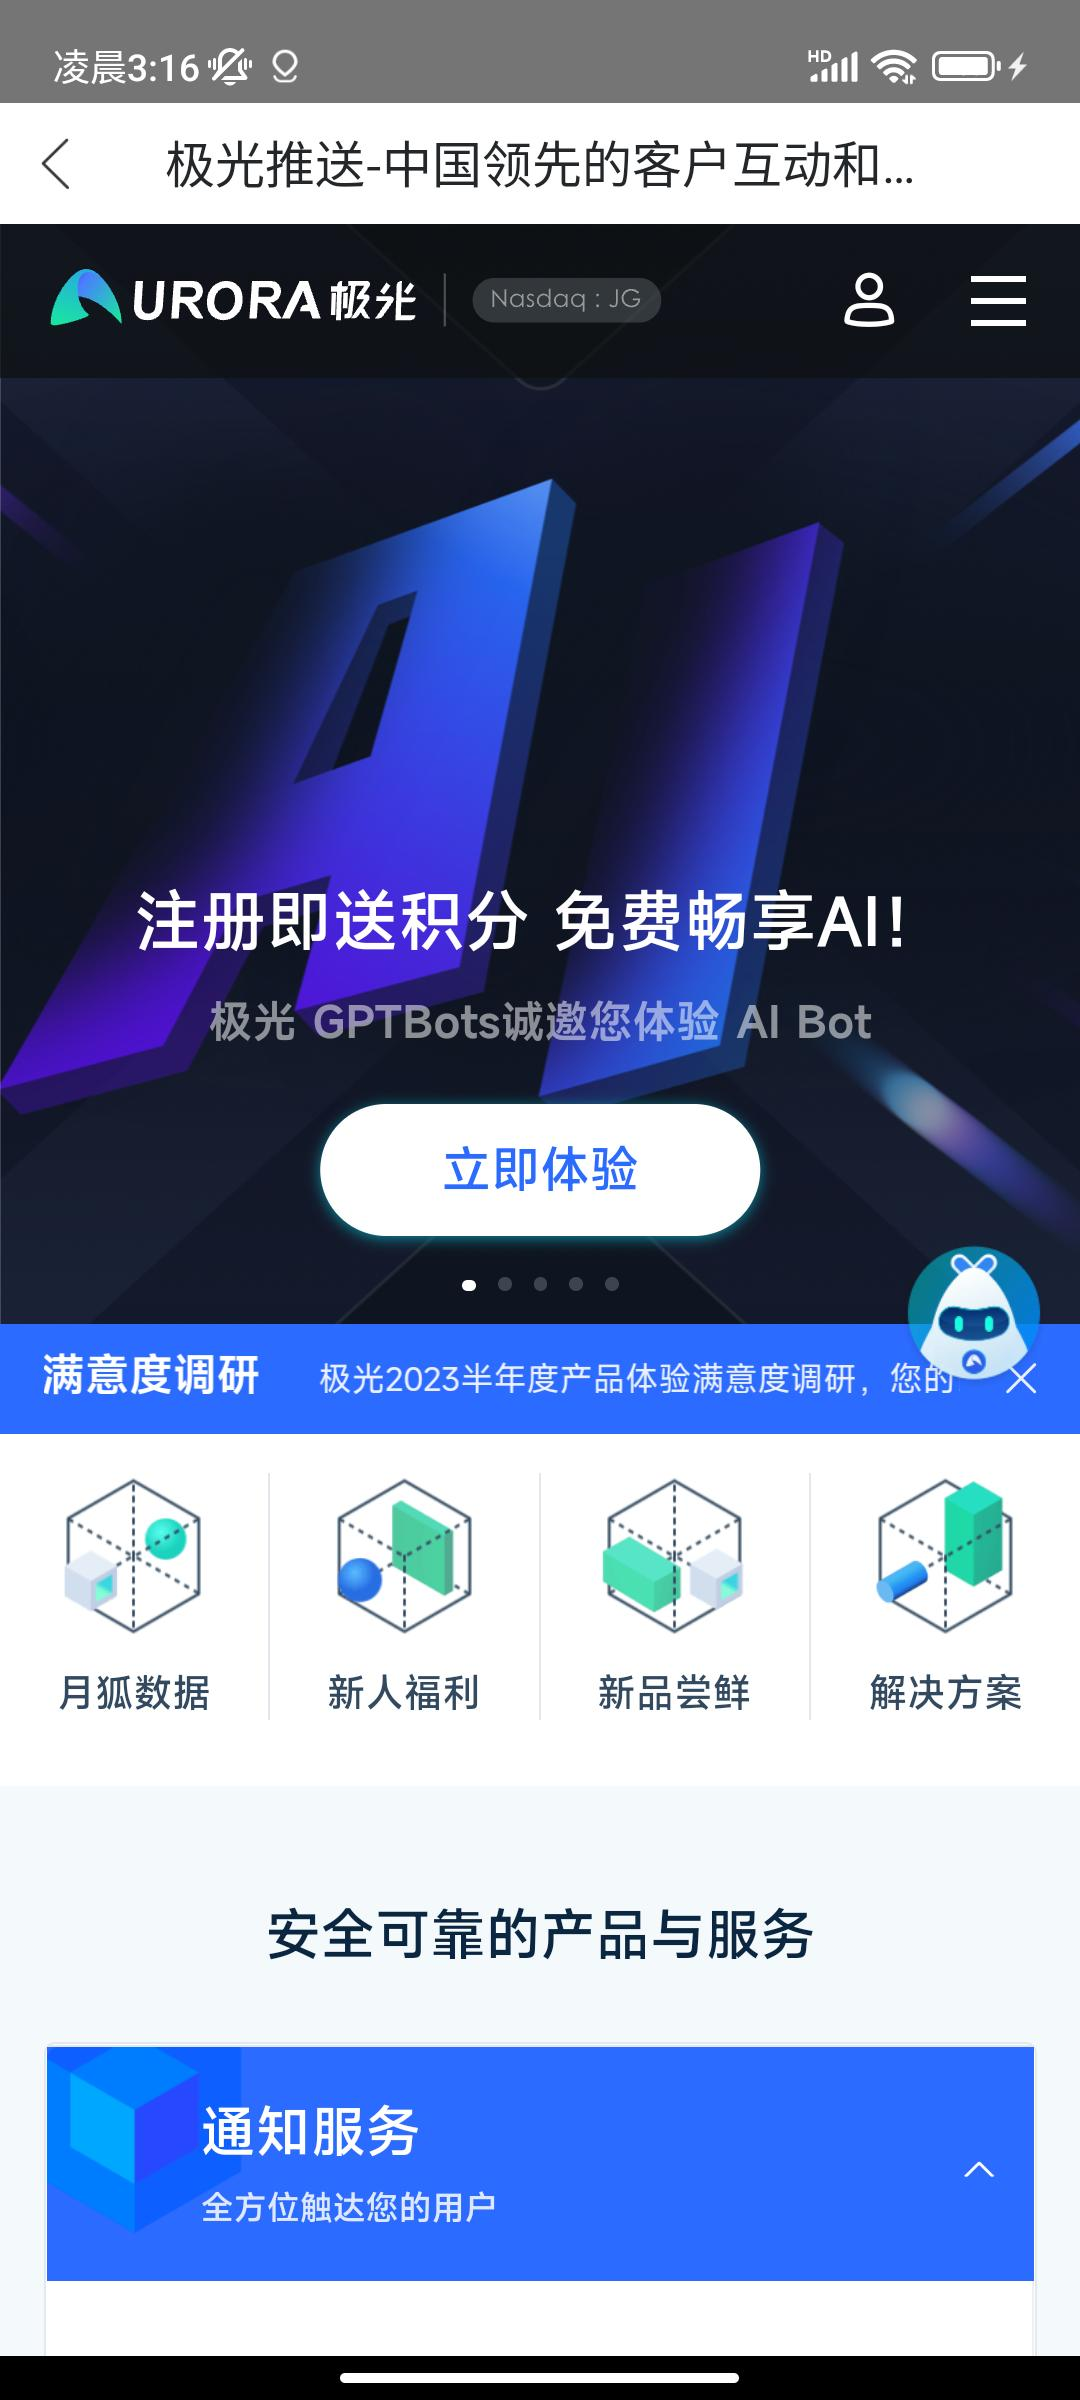ui_group: (2, 380, 1080, 1322), (47, 2049, 1037, 2282), (28, 1459, 254, 1737), (578, 1460, 789, 1740), (301, 1459, 503, 1737), (855, 1462, 1042, 1742)
